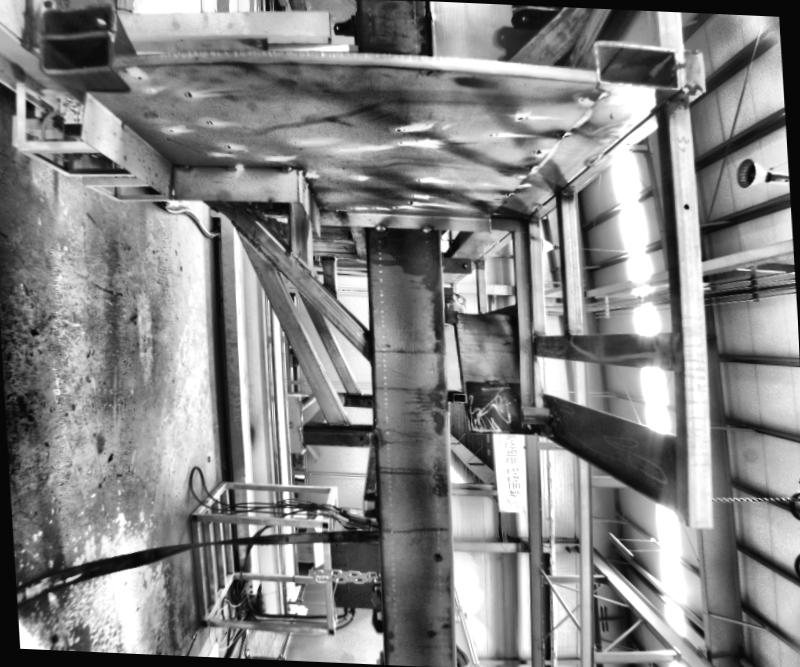hole: (680, 202, 690, 213), (432, 552, 438, 559), (356, 436, 362, 442), (632, 349, 636, 355)
welding: (215, 160, 240, 175), (172, 159, 190, 172), (415, 224, 433, 233), (272, 164, 290, 171), (372, 222, 382, 234)
